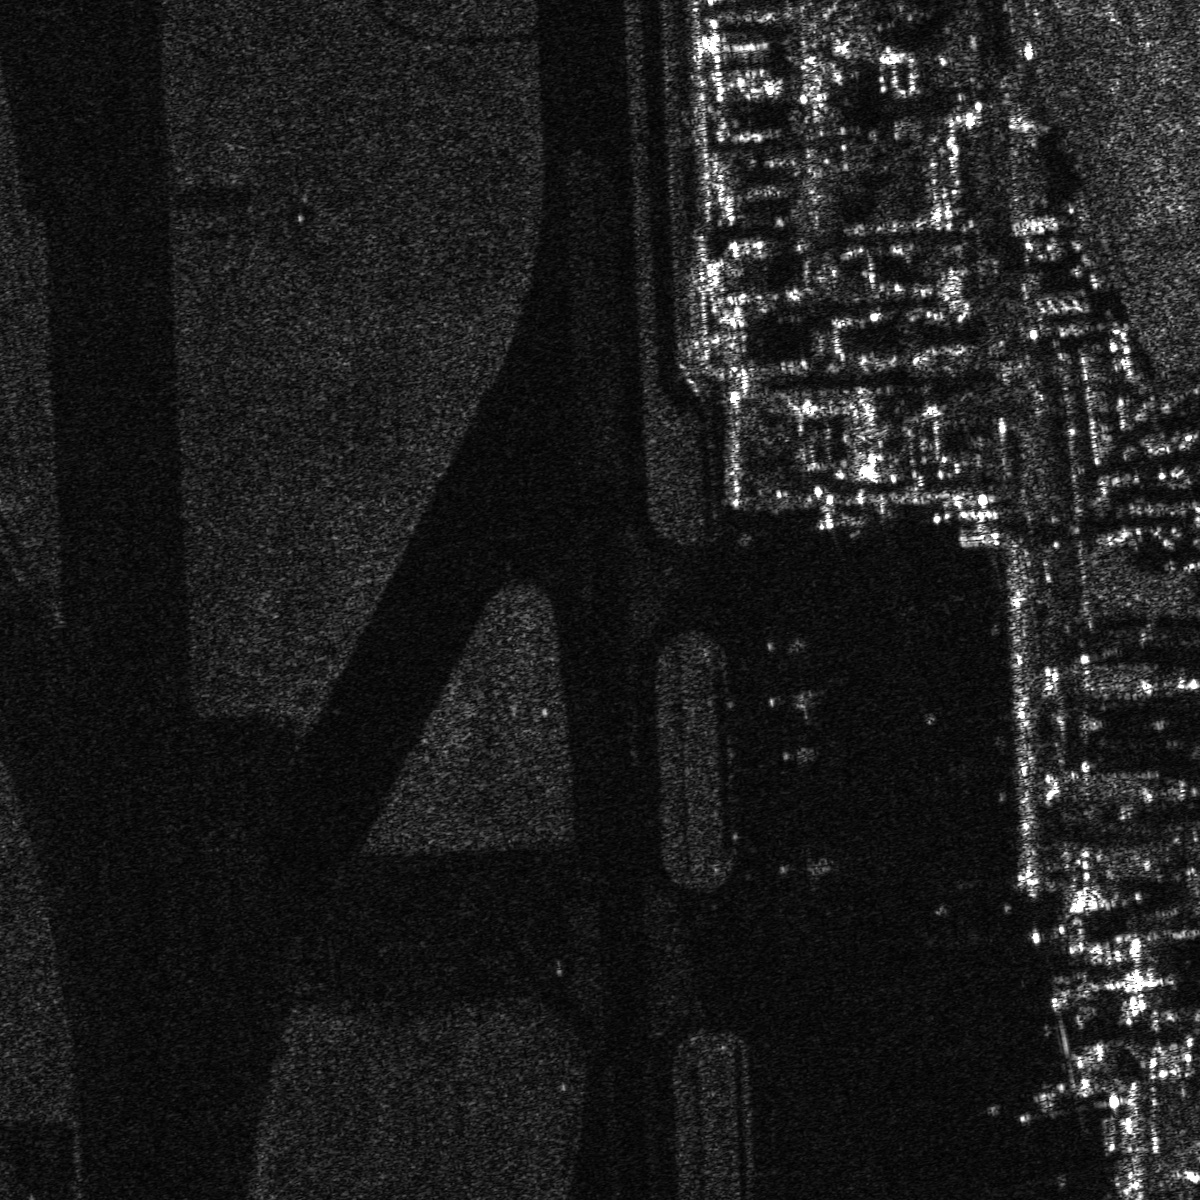ARJ21: (760, 678, 827, 722), (771, 733, 827, 773)
other: (749, 623, 816, 665), (777, 843, 840, 885)
